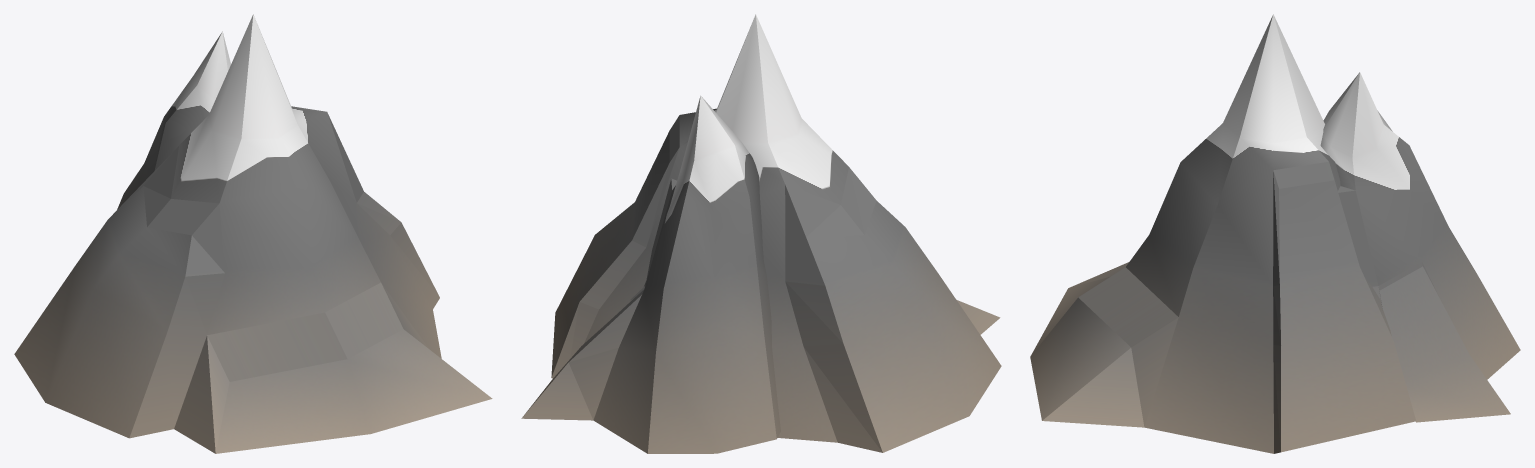
The model's file is Mountain.fbx.
3 views of the same model, side by side, from view 1: azimuth 30°, elevation 25°; view 2: azimuth 150°, elevation 25°; view 3: azimuth 270°, elevation 25° (orthographic). The views are drawn at different scales.
Parts seen in each view (by area): view 1: Mountain; view 2: Mountain; view 3: Mountain.
Boxes of the visible parts, x1=… form: Mountain: x1=14, y1=14, x2=492, y2=453; Mountain: x1=521, y1=14, x2=1001, y2=453; Mountain: x1=1030, y1=14, x2=1520, y2=453.
Bounding box in the file's own units: 89.18 × 72.73 × 92.5.
